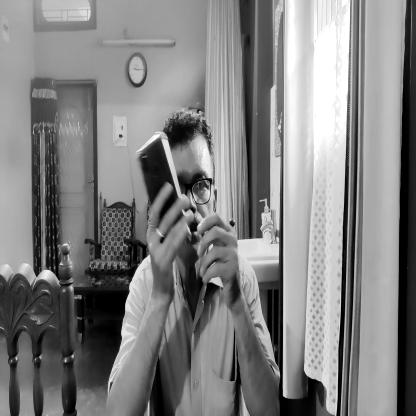Normal: (142, 108, 222, 287)
